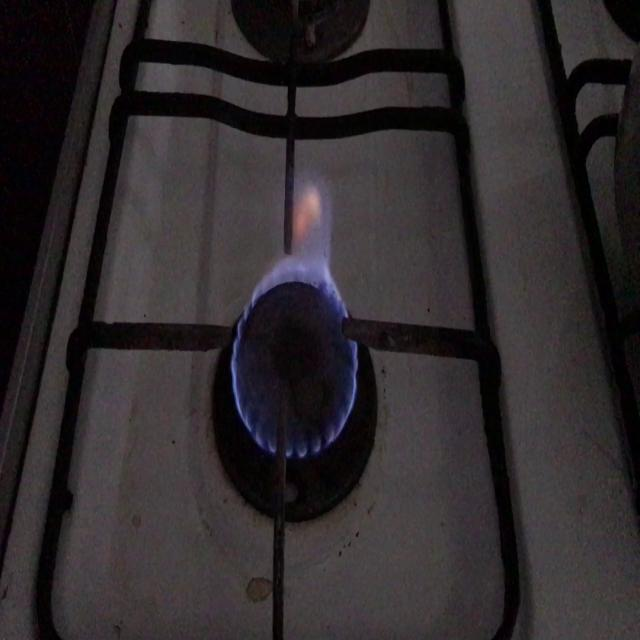Fire: (238, 236, 356, 443)
